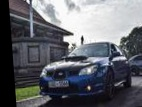car: (34, 37, 134, 107), (132, 51, 142, 77)
